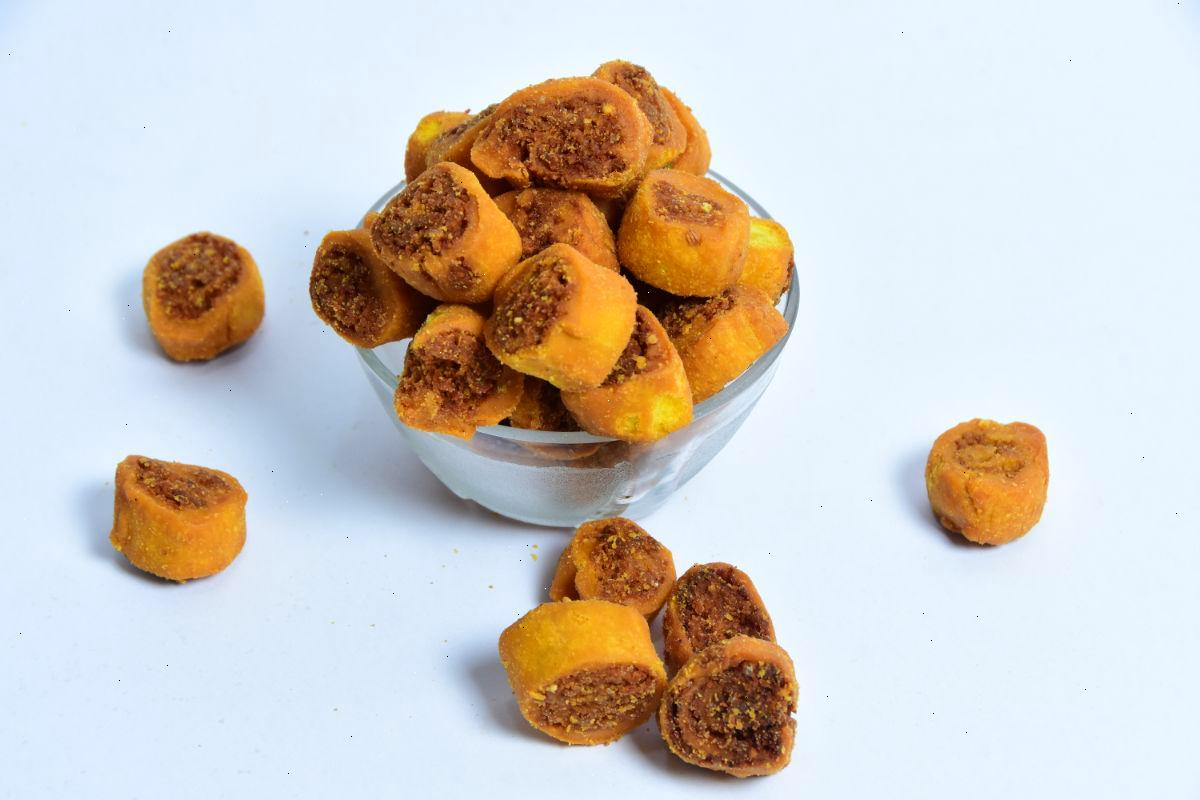bhakarwadi: (311, 70, 802, 450)
